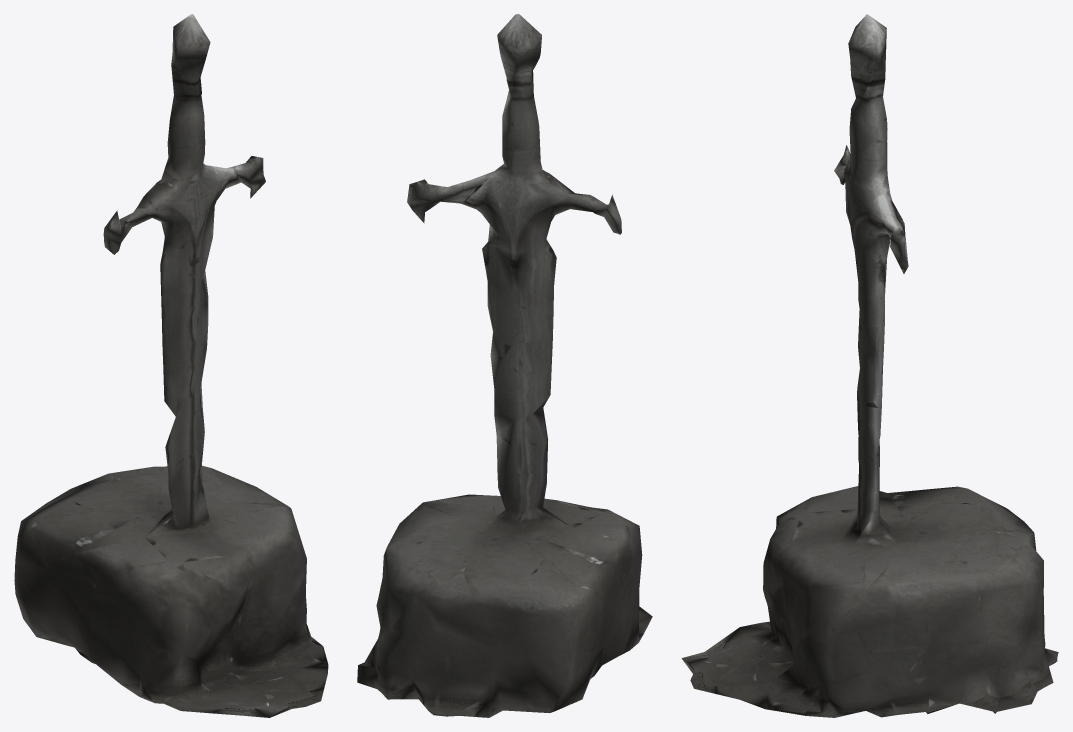
File: weapon_sword_in_stone.glb
The picture shows the model from 3 angles, left to right: view 1: azimuth 30°, elevation 25°; view 2: azimuth 150°, elevation 25°; view 3: azimuth 270°, elevation 25°; orthographic projection. The views are drawn at different scales.
Size of the model in its own units: 0.7401 by 2 by 1.04.
Materials: 1 (1 with a texture image).
